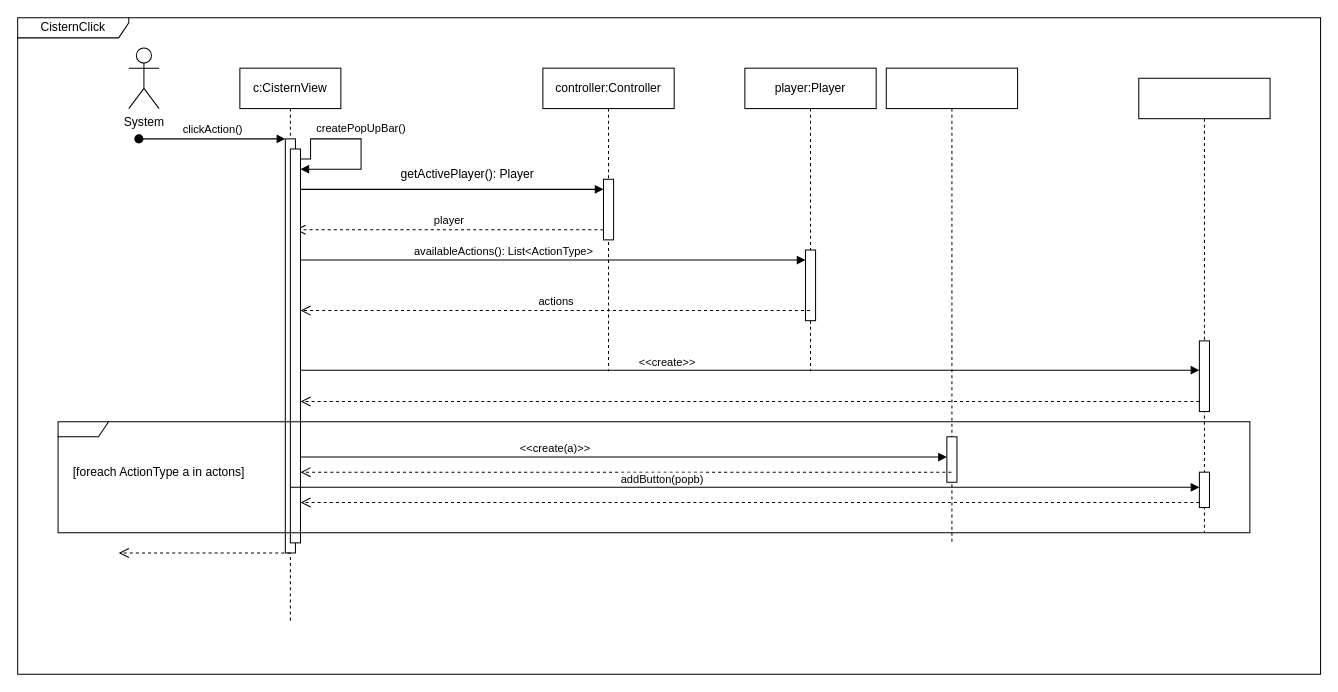
The diagram is 1338 pixels wide and 692 high, and some of its shapes have lost their labels. The box of each missing label's shape, as (x1, y1, x2, y2) in pixels:
loop: (57, 421, 1250, 533)
pop:PopUpBar: (1138, 77, 1270, 533)
popb:PopUpButton: (885, 67, 1018, 543)
